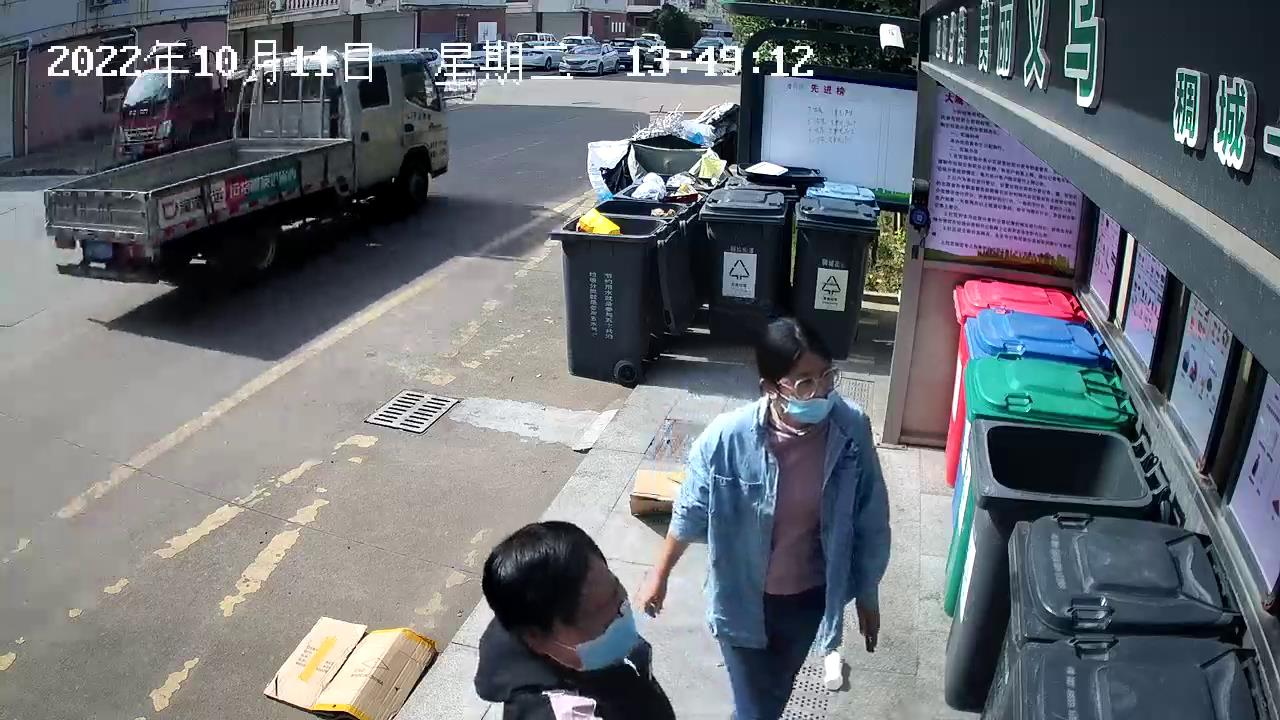person: (464, 516, 685, 720)
suliaozhipin: (819, 640, 847, 694)
worker: (639, 311, 901, 720)
zhizhipin: (258, 610, 444, 720), (623, 462, 690, 514)
